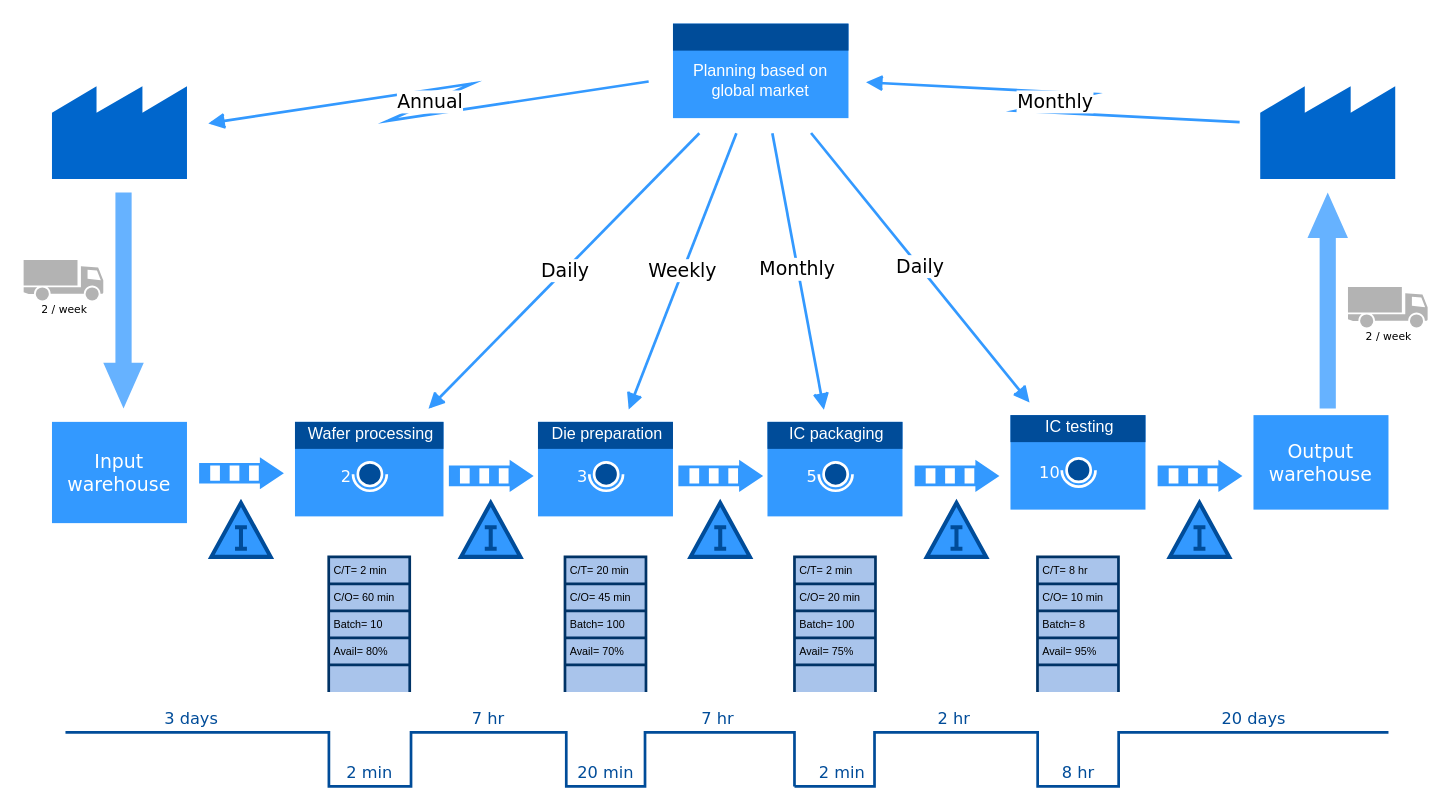
The diagram is 1450 pixels wide and 810 high, and some of its shapes have lost their labels. Each missing label, with the box of its shape:
Customers: (1260, 84, 1395, 178)
Production control: (672, 23, 848, 50)
Raw materials supplier: (51, 84, 186, 178)
